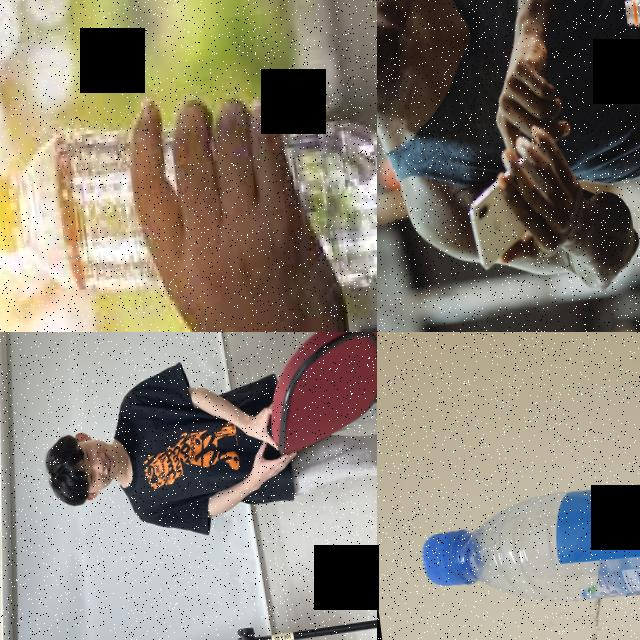bottle: (0, 88, 377, 311), (413, 442, 640, 627)
